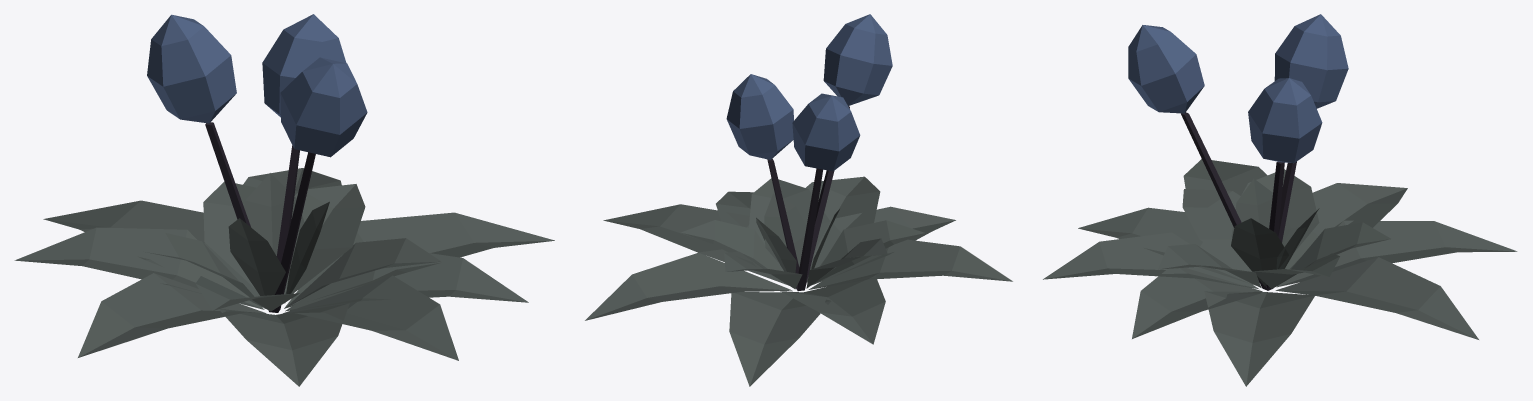
The model's file is silverleaf_s3.glb.
3 views of the same model, side by side, from view 1: azimuth 30°, elevation 25°; view 2: azimuth 150°, elevation 25°; view 3: azimuth 270°, elevation 25° (orthographic). The views are drawn at different scales.
Parts seen in each view (by area): view 1: silverleaf_s3; view 2: silverleaf_s3; view 3: silverleaf_s3.
Boxes of the visible parts, x1=… form: silverleaf_s3: x1=14, y1=14, x2=554, y2=386; silverleaf_s3: x1=585, y1=14, x2=1012, y2=386; silverleaf_s3: x1=1043, y1=14, x2=1517, y2=386.
Size of the model in its own units: 0.7041 by 0.407 by 0.6831.
